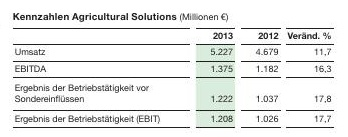table: (0, 0, 348, 137)
